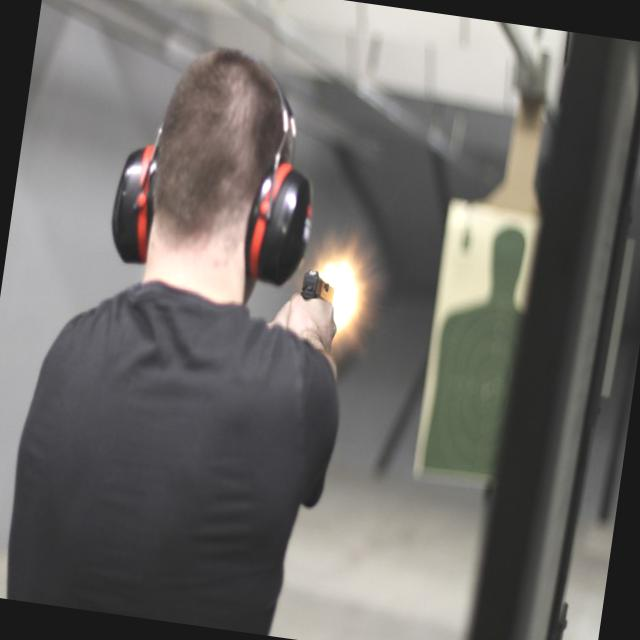handgun: (288, 264, 342, 334)
